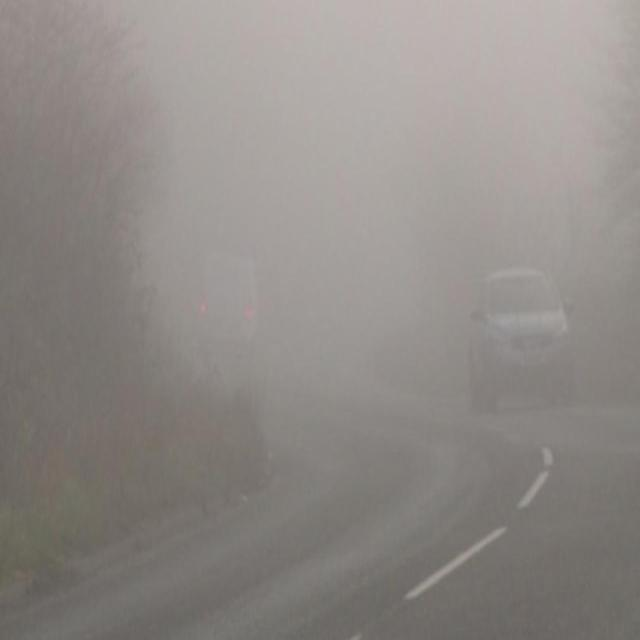Bus: (454, 219, 575, 419)
Van: (192, 200, 265, 357)
